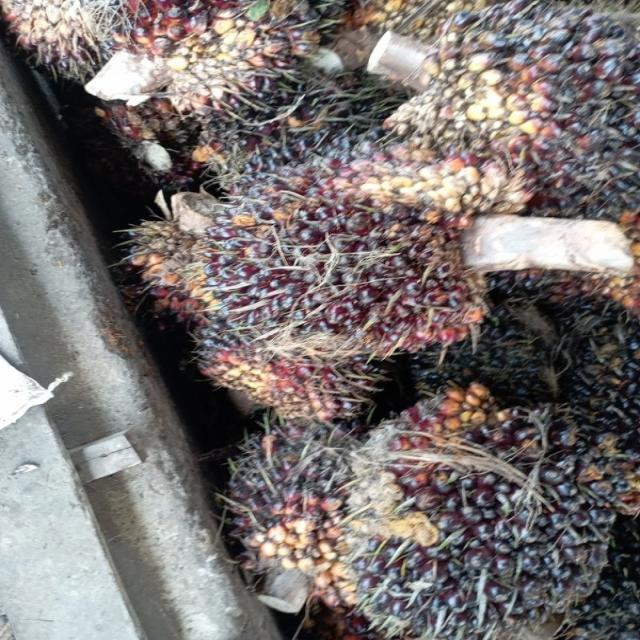fraksi 1: (138, 116, 536, 397), (281, 368, 640, 640)
